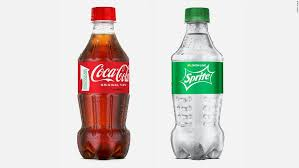HDPE Cap: (184, 7, 210, 24), (91, 6, 116, 21)
PET Bottle: (78, 6, 131, 161), (171, 7, 224, 160)
PVC Label: (172, 61, 223, 95), (78, 61, 130, 93)
